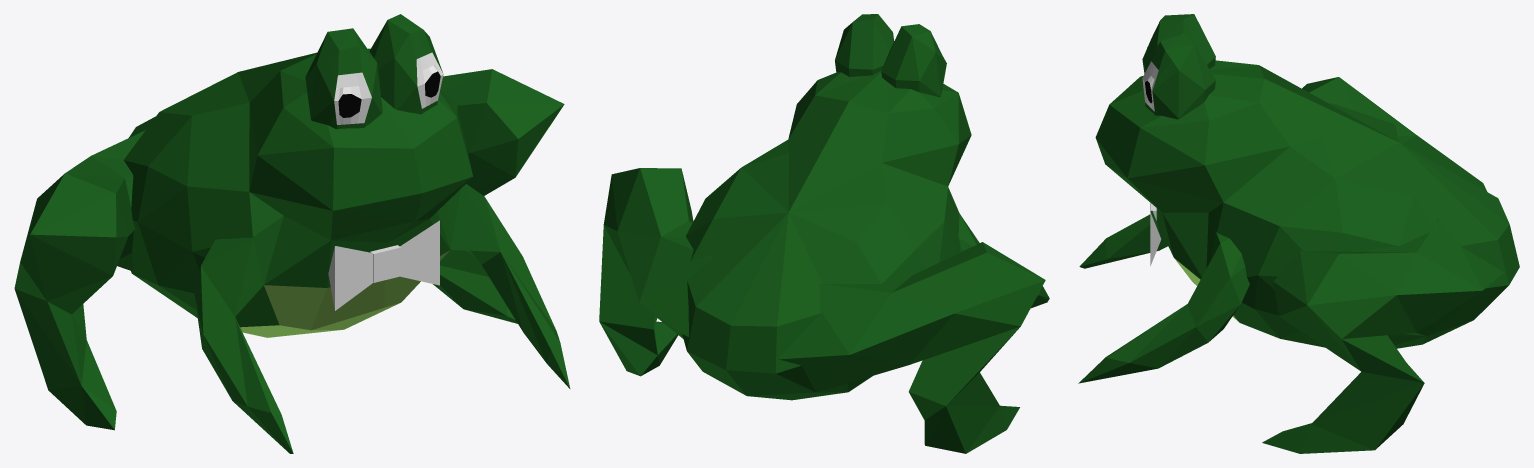
File: SmallFrog.fbx
The picture shows the model from 3 angles, left to right: view 1: azimuth 30°, elevation 25°; view 2: azimuth 150°, elevation 25°; view 3: azimuth 270°, elevation 25°; orthographic projection. The views are drawn at different scales.
Visible parts, largest first — view 1: Cube.001; view 2: Cube.001; view 3: Cube.001.
Boxes of the visible parts, x1=… form: Cube.001: x1=14, y1=14, x2=570, y2=453; Cube.001: x1=599, y1=14, x2=1049, y2=453; Cube.001: x1=1078, y1=14, x2=1519, y2=453.
Bounding box in the file's own units: 178 × 127 × 150.
